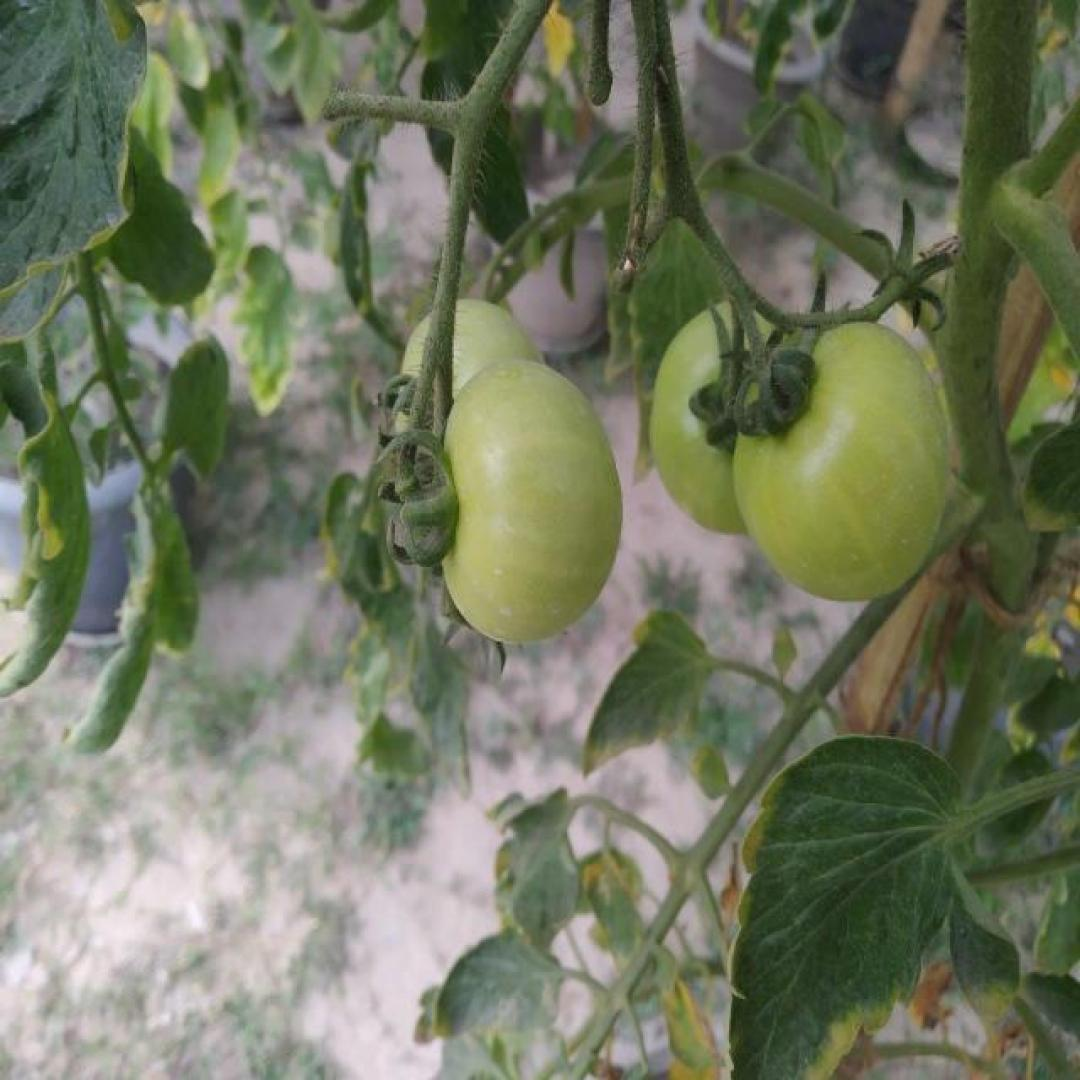mentah: (731, 312, 950, 606), (427, 356, 623, 648)
